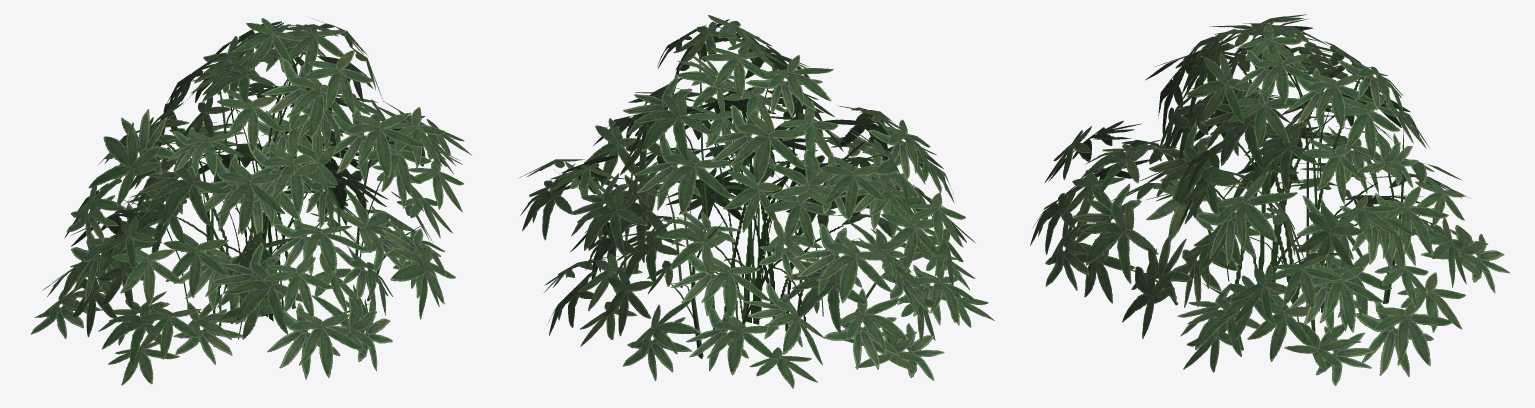
File: Grass1.fbx
3 views of the same model, side by side, from view 1: azimuth 30°, elevation 25°; view 2: azimuth 150°, elevation 25°; view 3: azimuth 270°, elevation 25° (orthographic). The views are drawn at different scales.
Parts seen in each view (by area): view 1: SM_d_109_Grass_01a; view 2: SM_d_109_Grass_01a; view 3: SM_d_109_Grass_01a.
Part boxes in pixels (<box>): SM_d_109_Grass_01a: <box>30,18,471,385</box>; SM_d_109_Grass_01a: <box>519,15,994,388</box>; SM_d_109_Grass_01a: <box>1030,14,1509,385</box>.
Size of the model in its own units: 339 by 217 by 319.
